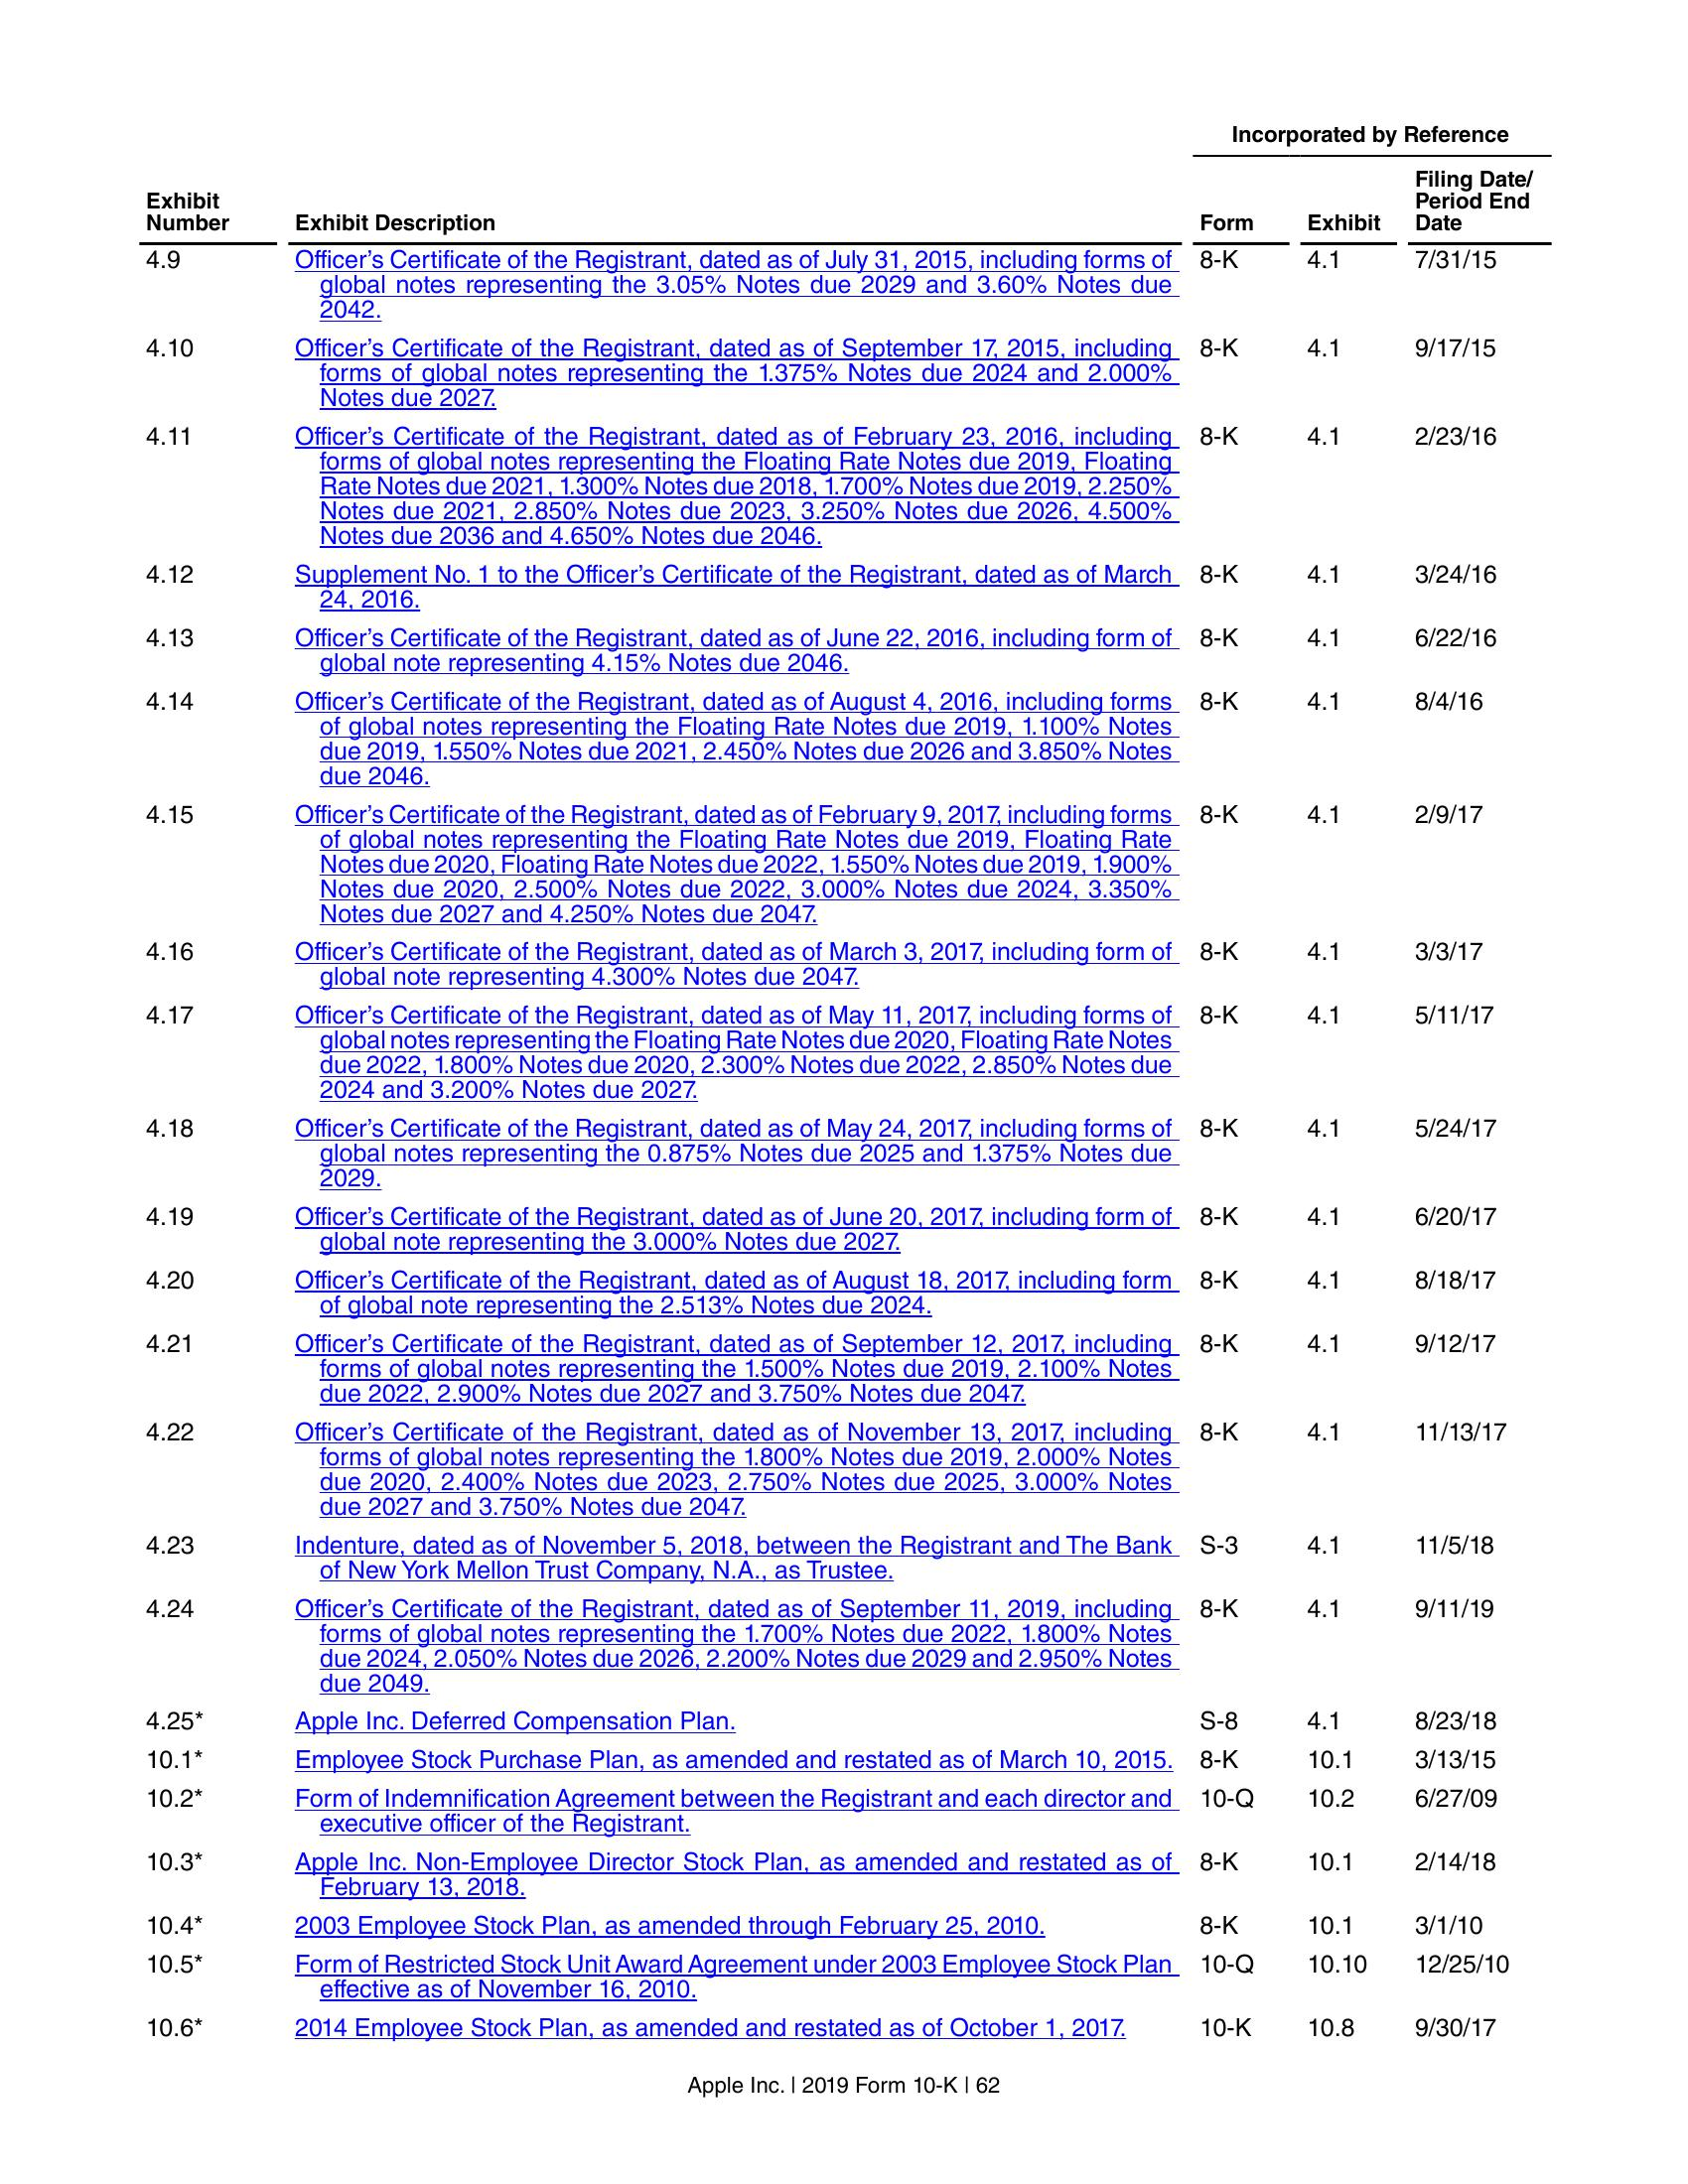table: (129, 124, 1559, 2053)
